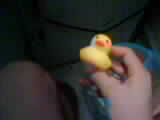duck: (74, 28, 134, 86)
